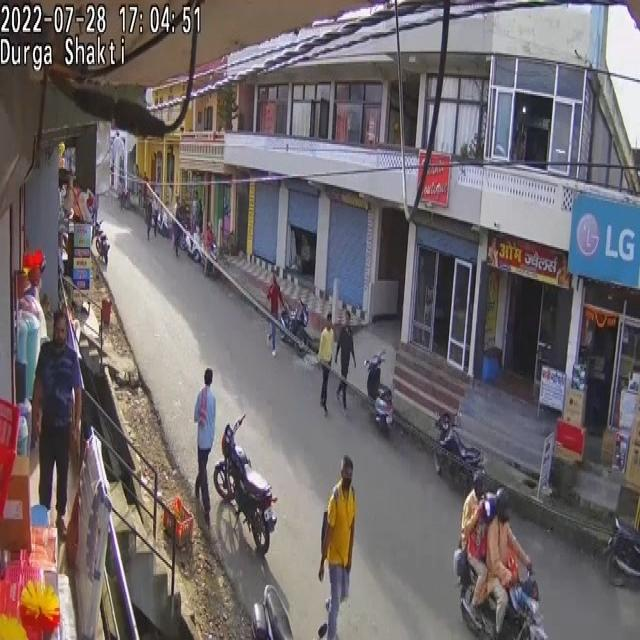non-fight: (32, 307, 83, 541), (482, 494, 534, 638), (318, 454, 356, 640), (17, 252, 50, 444), (458, 471, 489, 592), (194, 368, 216, 520), (335, 311, 356, 404), (317, 311, 335, 413), (266, 273, 286, 355), (202, 222, 217, 276), (172, 206, 182, 257), (144, 197, 152, 239), (151, 201, 160, 238), (192, 195, 200, 233)
